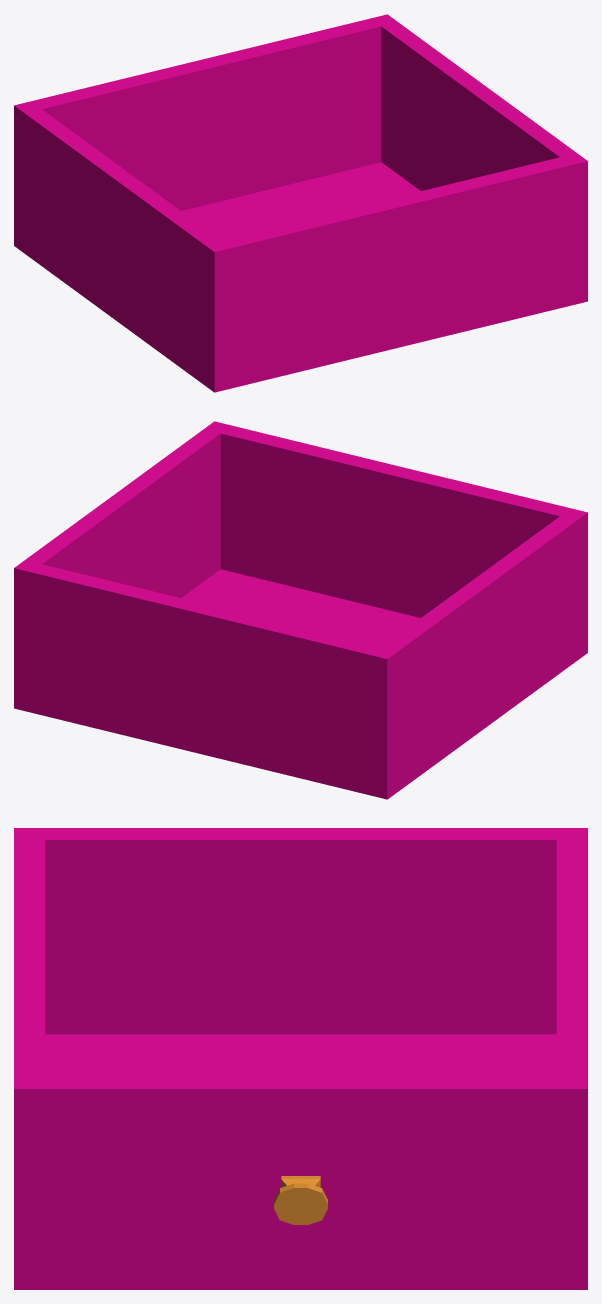
Rendered from 1 Gaveteiro Portas maiores.fbx.
3 views of the same model, one above another, from view 1: azimuth 30°, elevation 25°; view 2: azimuth 150°, elevation 25°; view 3: azimuth 270°, elevation 25° (orthographic). The views are drawn at different scales.
Parts seen in each view (by area): view 1: Cube.011; view 2: Cube.011; view 3: Cube.011.
Boxes of the visible parts, x1,y1,x2,y2 form: Cube.011: (14,14,587,392); Cube.011: (14,421,587,799); Cube.011: (14,828,587,1289).
Bounding box in the file's own units: 178 × 60 × 155.
